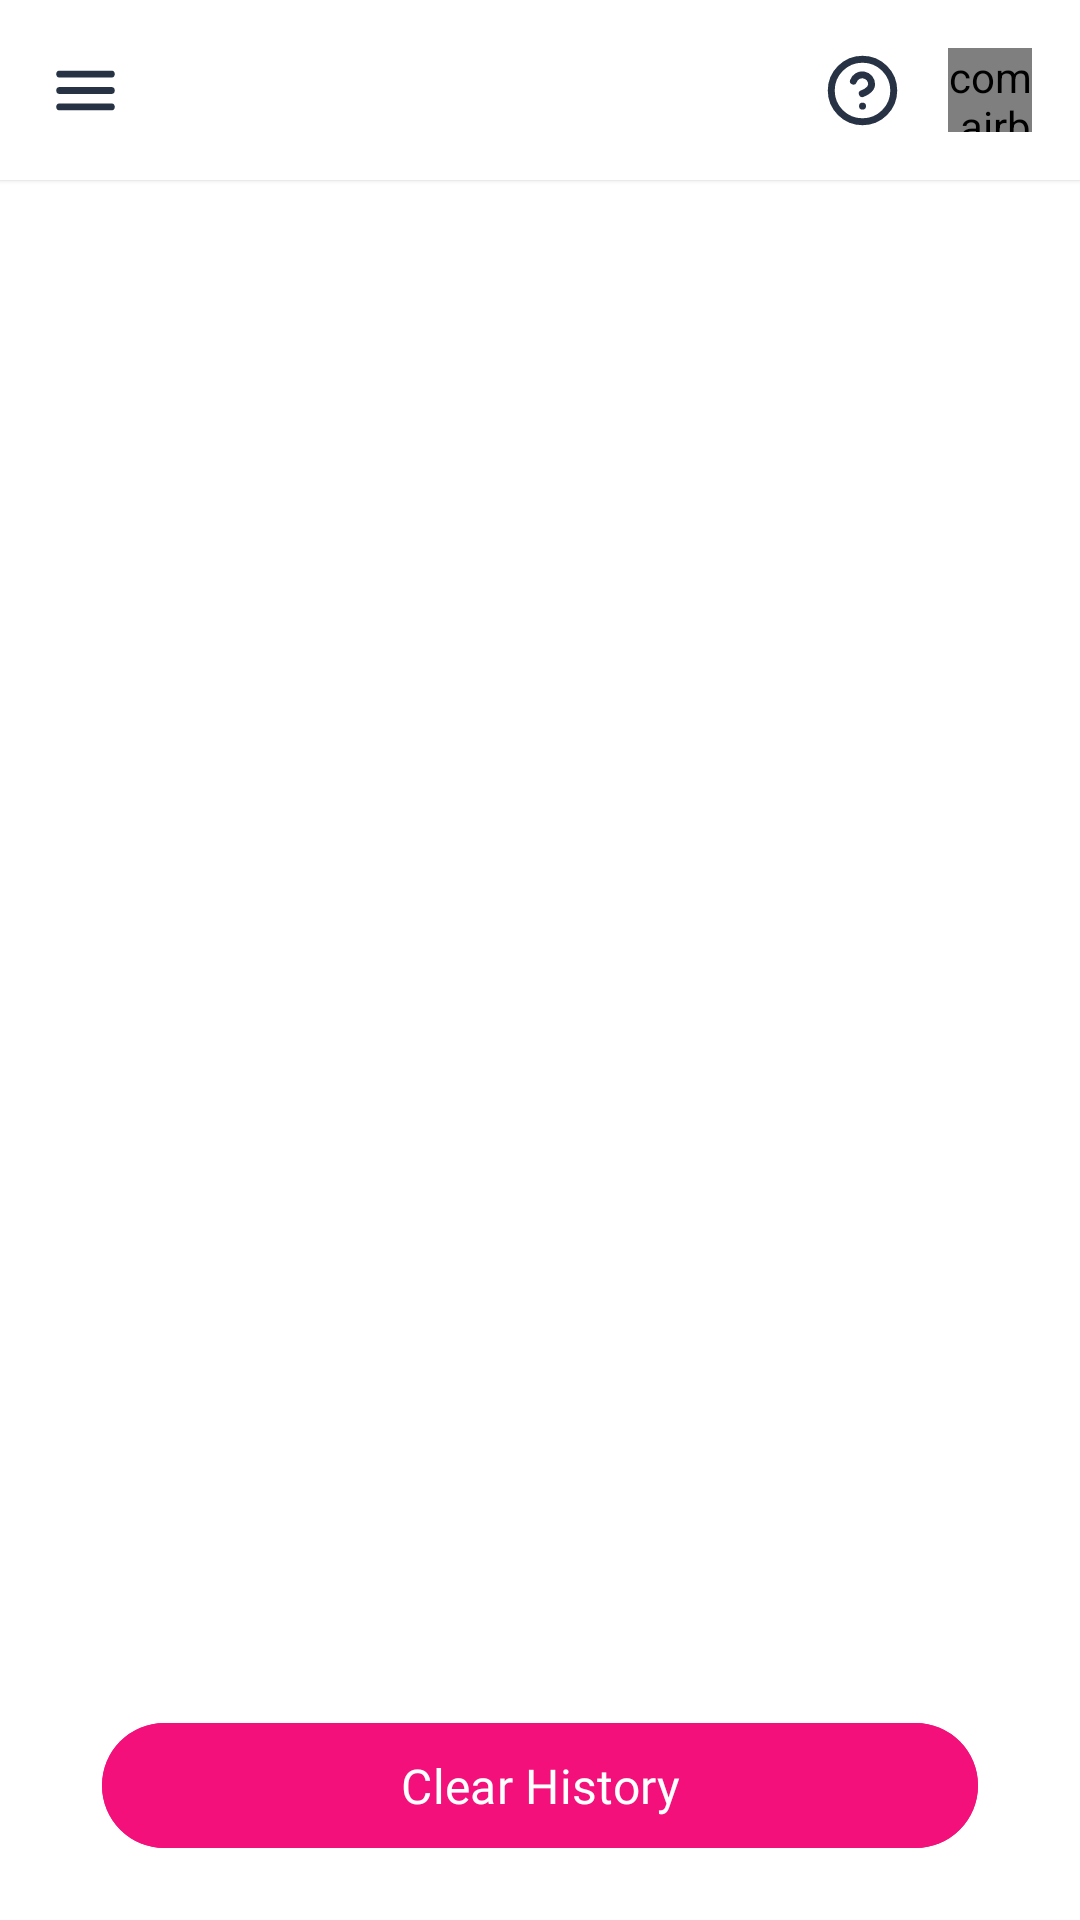

Where to tap for icons on this 1080*1920 app screen, as [x,y]:
hamburger: [85,90]
help toolbar: [862,90]
